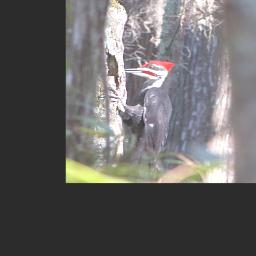Woodpecker: (98, 60, 178, 177)
